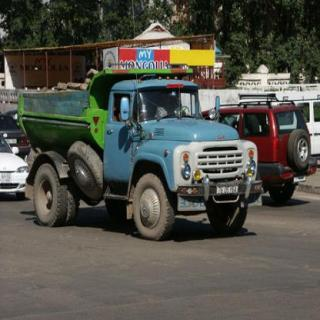Normal_vehicle: (20, 68, 264, 244)
